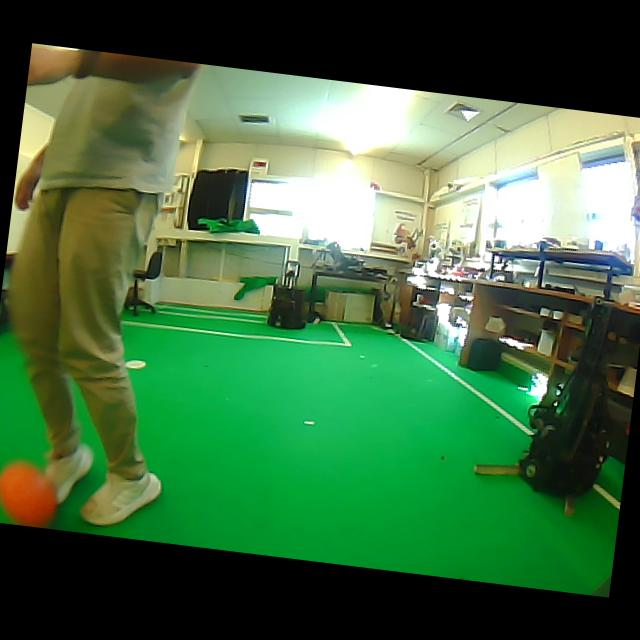ball: (0, 462, 57, 526)
robot: (521, 304, 611, 495), (267, 285, 305, 328)
